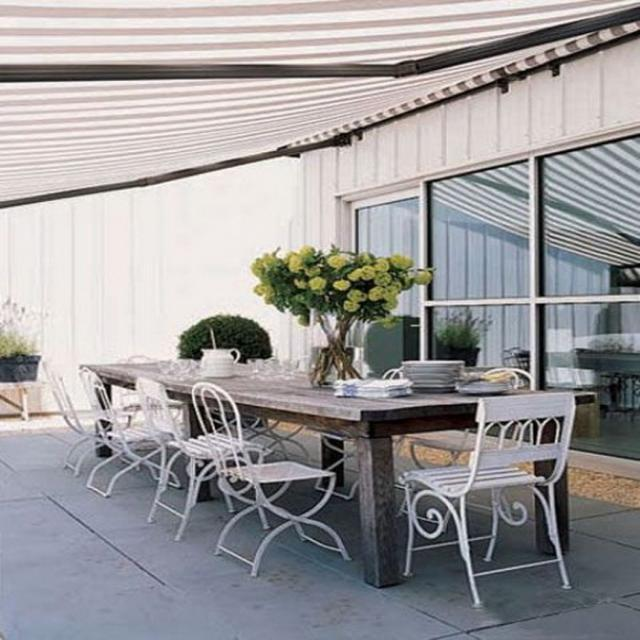table: (81, 326, 596, 452)
